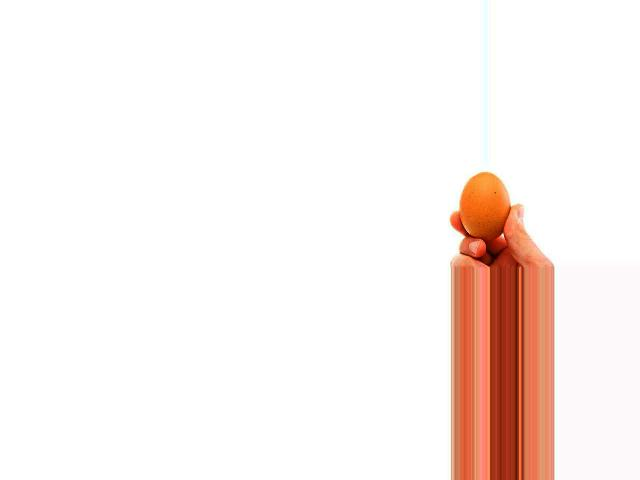egg: (458, 172, 510, 239)
